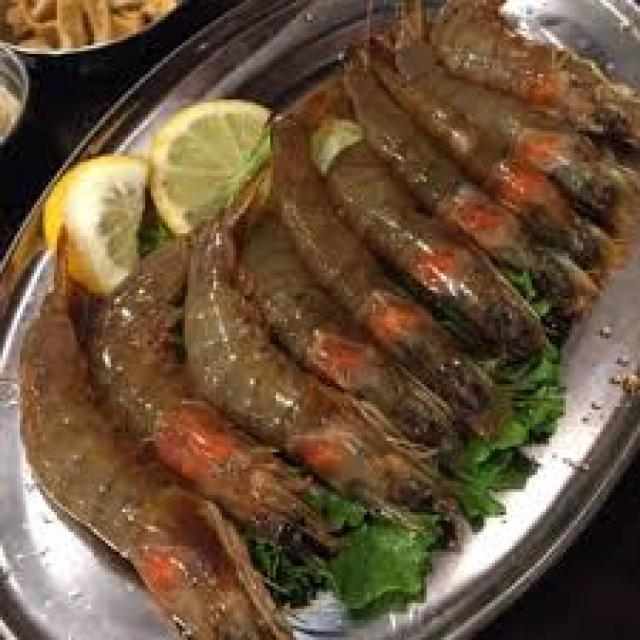Lemon: (149, 101, 265, 198), (59, 156, 148, 276)
Shrimp: (440, 0, 640, 94)
